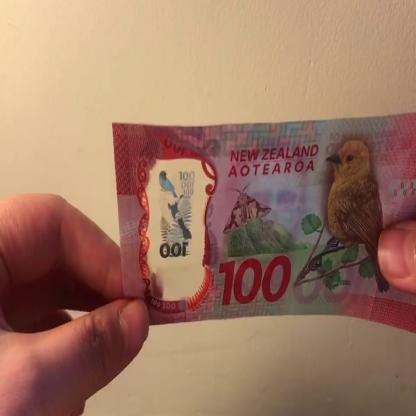100B: (155, 164, 199, 286)
